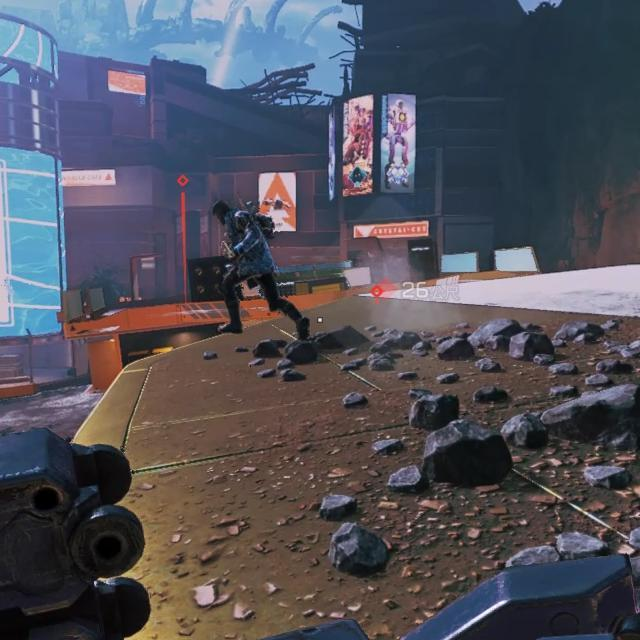avatar: (211, 198, 282, 337)
